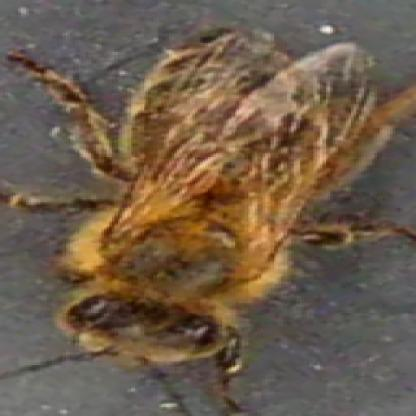bee: (42, 68, 391, 361)
